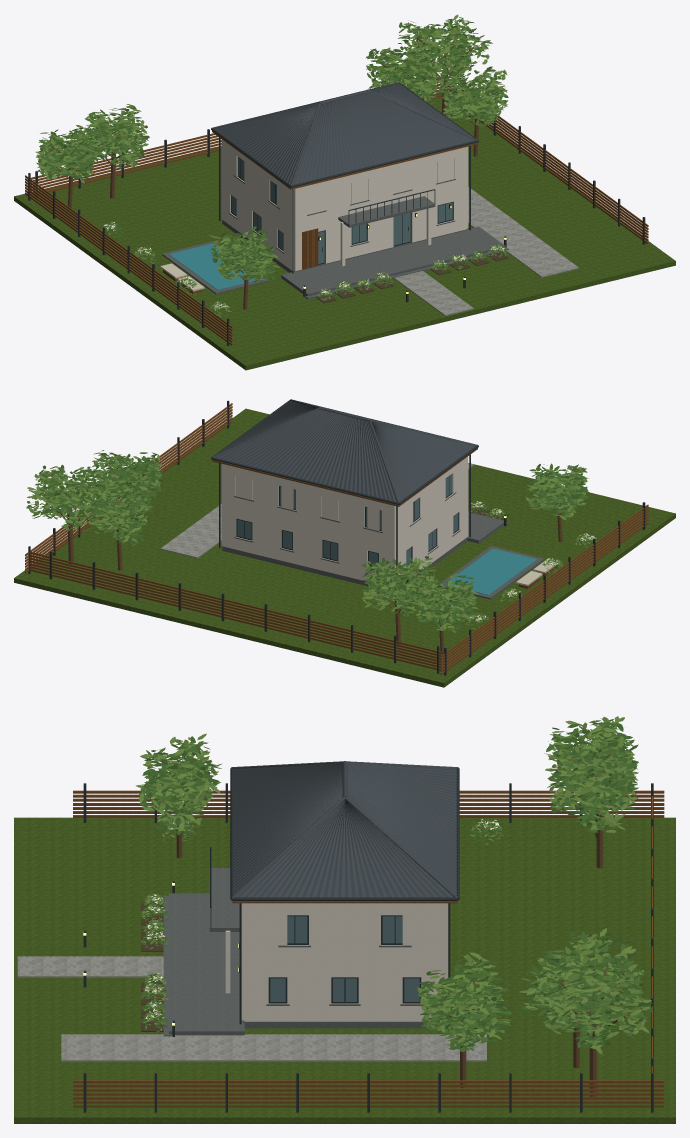
File: casa-08.glb
3 views of the same model, one above another, from view 1: azimuth 30°, elevation 25°; view 2: azimuth 150°, elevation 25°; view 3: azimuth 270°, elevation 25° (orthographic). The views are drawn at different scales.
Parts seen in each view (by area): view 1: landscape_grass.007, architecture_stucco.006, architecture_roof.006, landscape_leaf-light.007, landscape_leaf.007, landscape_wood.007, landscape_stone.007, landscape_paving.007, architecture_metal.007, architecture_stone.007, architecture_glass.007, landscape_water.003 (+4 smaller); view 2: landscape_grass.007, architecture_stucco.006, architecture_roof.006, landscape_wood.007, landscape_leaf-light.007, landscape_leaf.007, architecture_metal.007, landscape_water.003, landscape_metal.007, landscape_paving.007, architecture_glass.007, landscape_stone.007 (+3 smaller); view 3: landscape_grass.007, architecture_roof.006, landscape_wood.007, architecture_stucco.006, landscape_leaf-light.007, landscape_leaf.007, landscape_paving.007, landscape_stone.007, architecture_metal.007, architecture_stone.007, architecture_glass.007, landscape_metal.007 (+3 smaller).
Part boxes in pixels (x1,y1,x2,y2): landscape_grass.007: (14, 94, 675, 370); architecture_stucco.006: (221, 139, 468, 270); architecture_roof.006: (212, 82, 477, 185); landscape_leaf-light.007: (35, 14, 507, 316); landscape_leaf.007: (36, 17, 508, 318); landscape_wood.007: (25, 75, 648, 345); landscape_stone.007: (162, 226, 508, 299); landscape_paving.007: (394, 187, 578, 315); architecture_metal.007: (211, 82, 478, 273); architecture_stone.007: (222, 175, 467, 272); architecture_glass.007: (231, 157, 452, 263); landscape_water.003: (169, 243, 258, 289); landscape_grass.007: (14, 408, 675, 687); architecture_stucco.006: (221, 456, 468, 581); architecture_roof.006: (212, 399, 477, 503); landscape_wood.007: (25, 403, 648, 674); landscape_leaf-light.007: (26, 452, 597, 632); landscape_leaf.007: (26, 450, 597, 630); architecture_metal.007: (211, 399, 478, 582); landscape_water.003: (444, 548, 537, 595); landscape_metal.007: (28, 400, 645, 675); landscape_paving.007: (160, 463, 473, 558); architecture_glass.007: (237, 474, 458, 569); landscape_stone.007: (437, 512, 544, 599); landscape_grass.007: (14, 817, 675, 1123); architecture_roof.006: (231, 761, 458, 898); landscape_wood.007: (73, 790, 664, 1107); architecture_stucco.006: (225, 903, 448, 1021); landscape_leaf-light.007: (135, 716, 651, 1054); landscape_leaf.007: (138, 718, 652, 1051); landscape_paving.007: (17, 956, 486, 1061); landscape_stone.007: (163, 893, 244, 1036); architecture_metal.007: (210, 767, 459, 1024); architecture_stone.007: (209, 868, 435, 1028); architecture_glass.007: (270, 916, 419, 1001); landscape_metal.007: (83, 783, 653, 1112).
Size of the model in its own units: 31.06 by 9.14 by 28.
17 materials, 5 textured.
